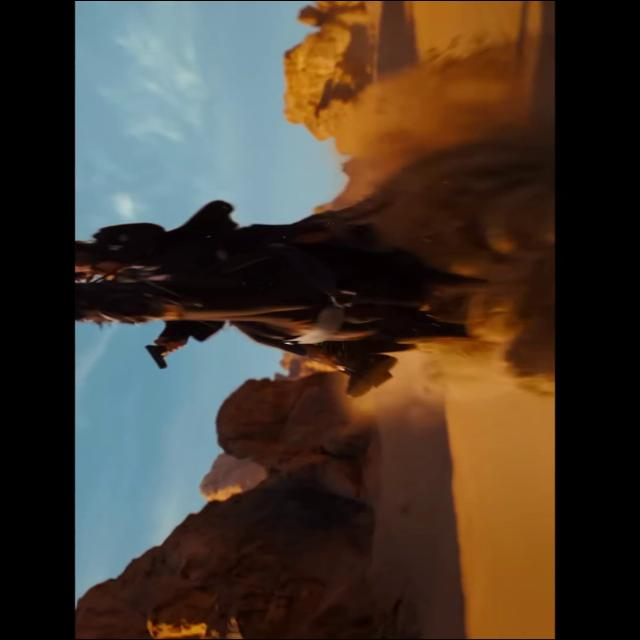weapons: (126, 334, 198, 378)
